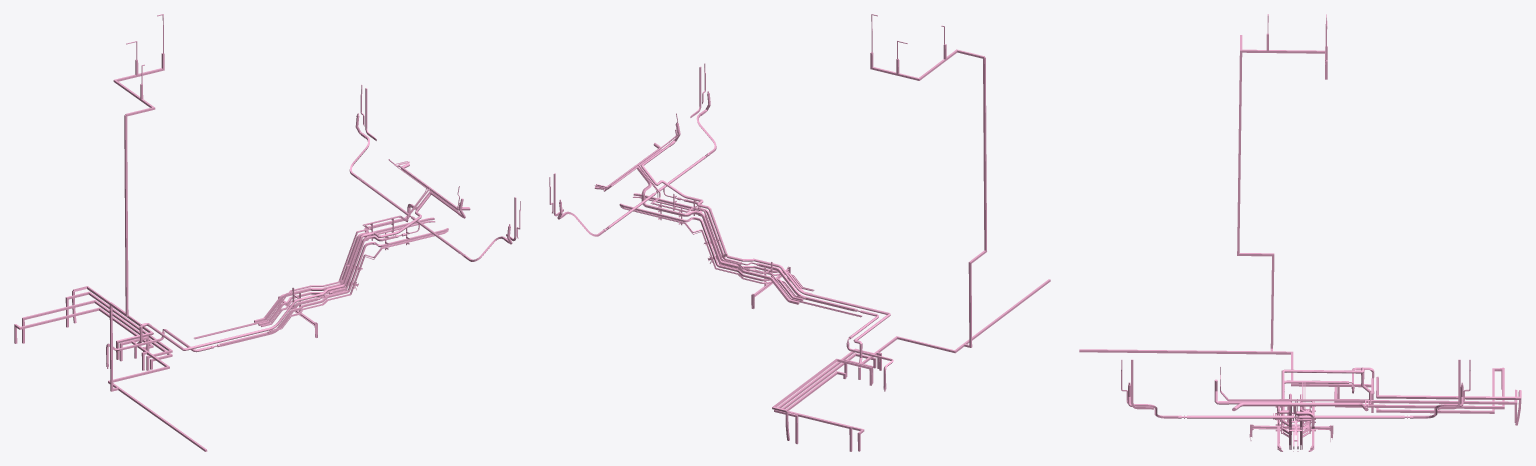
Rendered from Serv-Z0-Sec11-cut2.glb.
3 views of the same model, side by side, from view 1: azimuth 30°, elevation 25°; view 2: azimuth 150°, elevation 25°; view 3: azimuth 270°, elevation 25° (orthographic). The views are drawn at different scales.
Parts seen in each view (by area): view 1: Serv-Z0-Sec11-cut2; view 2: Serv-Z0-Sec11-cut2; view 3: Serv-Z0-Sec11-cut2.
Part boxes in pixels (box(x1,y1,x2,y2)): Serv-Z0-Sec11-cut2: box(14, 14, 520, 451); Serv-Z0-Sec11-cut2: box(549, 14, 1050, 451); Serv-Z0-Sec11-cut2: box(1079, 14, 1521, 451).
Bounding box in the file's own units: 16.64 × 17.4 × 17.
